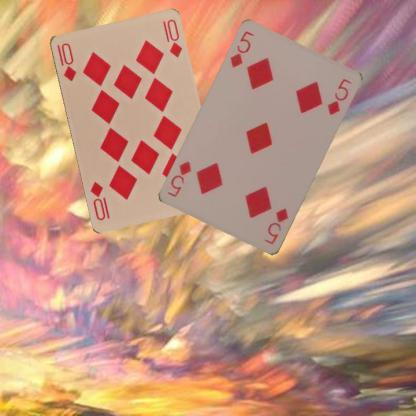10d: (54, 40, 77, 82)
5d: (261, 206, 290, 246), (227, 29, 255, 70)
